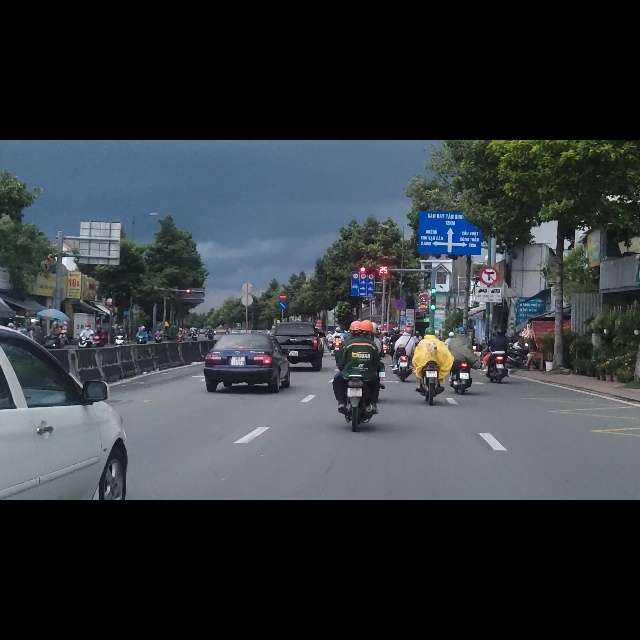bien_chi_dan: (351, 246, 374, 280), (479, 225, 499, 258), (395, 283, 405, 300), (279, 271, 288, 286), (279, 287, 287, 300), (353, 236, 359, 246), (361, 236, 366, 247), (368, 238, 374, 246)
